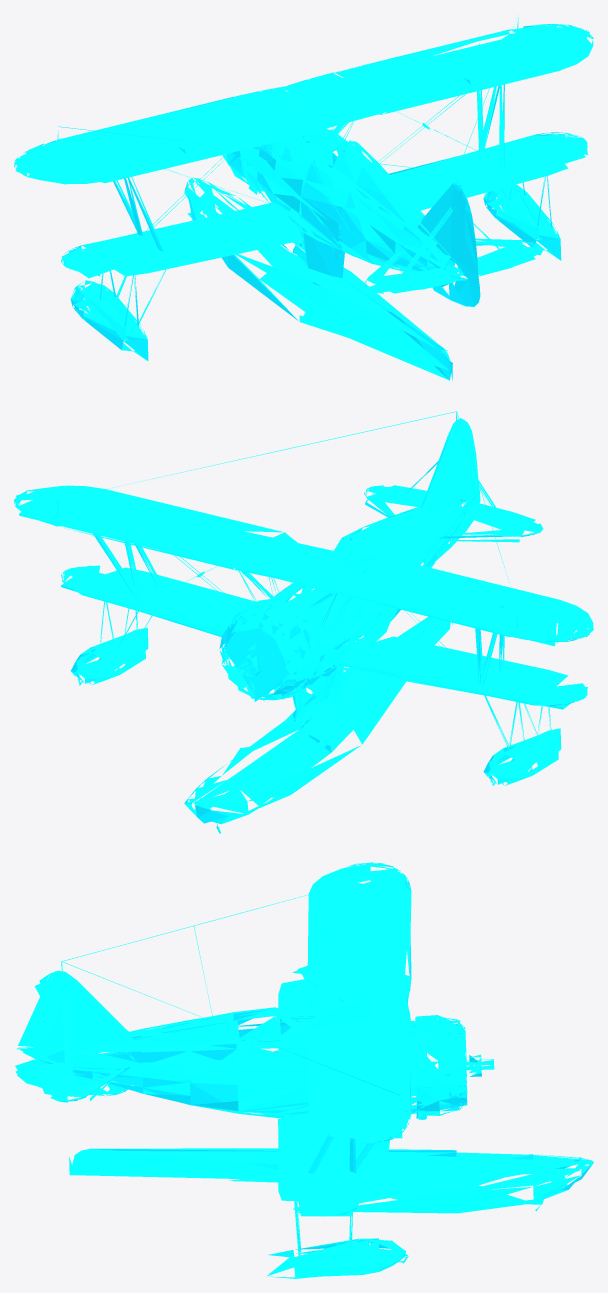
The model's file is PVAF003.glb.
3 renders of one model, top to bottom at view 1: azimuth 30°, elevation 25°; view 2: azimuth 150°, elevation 25°; view 3: azimuth 270°, elevation 25°, orthographic.
Parts seen in each view (by area): view 1: misc; view 2: misc; view 3: misc.
Boxes of the visible parts, x1,y1,x2,y2 form: misc: (14, 17, 593, 381); misc: (14, 411, 593, 833); misc: (15, 862, 593, 1278).
Bounding box in the file's own units: 0.6724 × 0.2816 × 0.5871.
